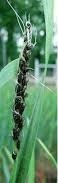Wheat Loose Smut: (8, 33, 37, 144)
